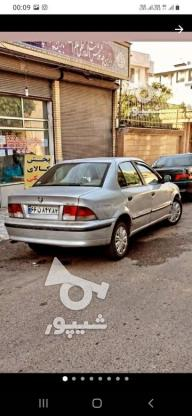car: (25, 204, 62, 215)
